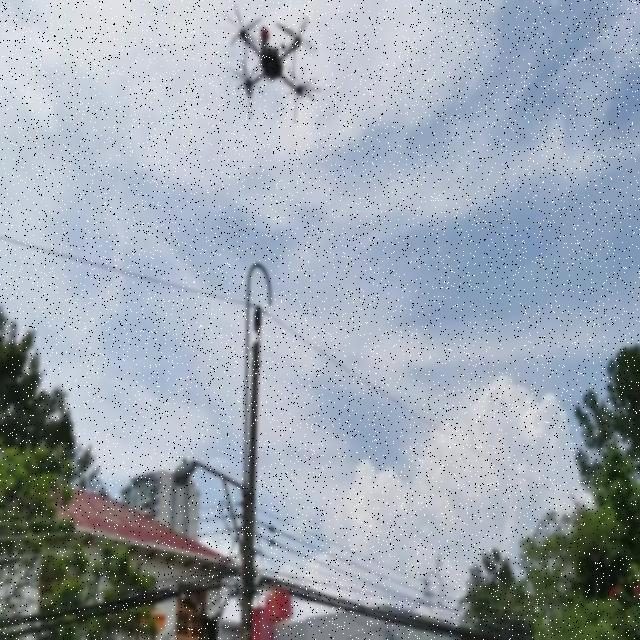UAV: (222, 4, 322, 126)
